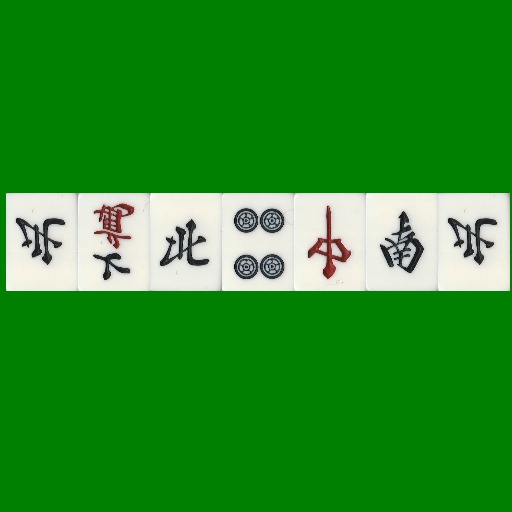4p: (222, 193, 294, 291)
7m: (78, 193, 150, 291)
north: (6, 193, 78, 291), (150, 193, 222, 291), (438, 193, 510, 291)
south: (366, 193, 438, 291)
tyun: (294, 193, 366, 291)
